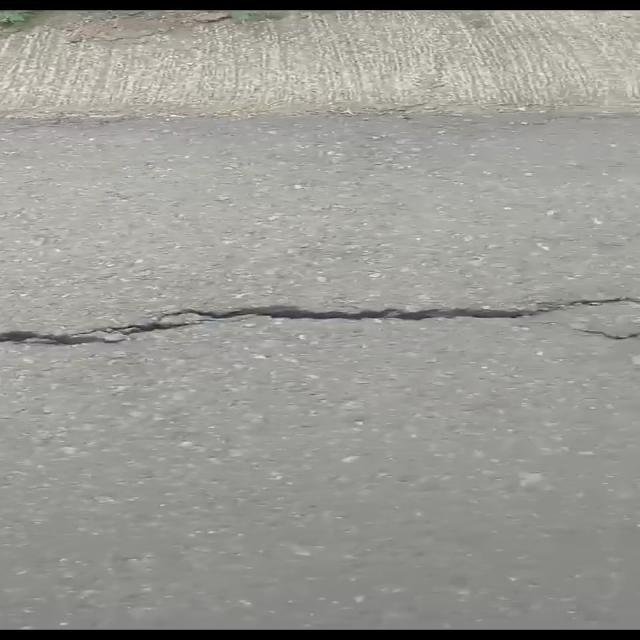Melintang: (0, 287, 640, 368)
